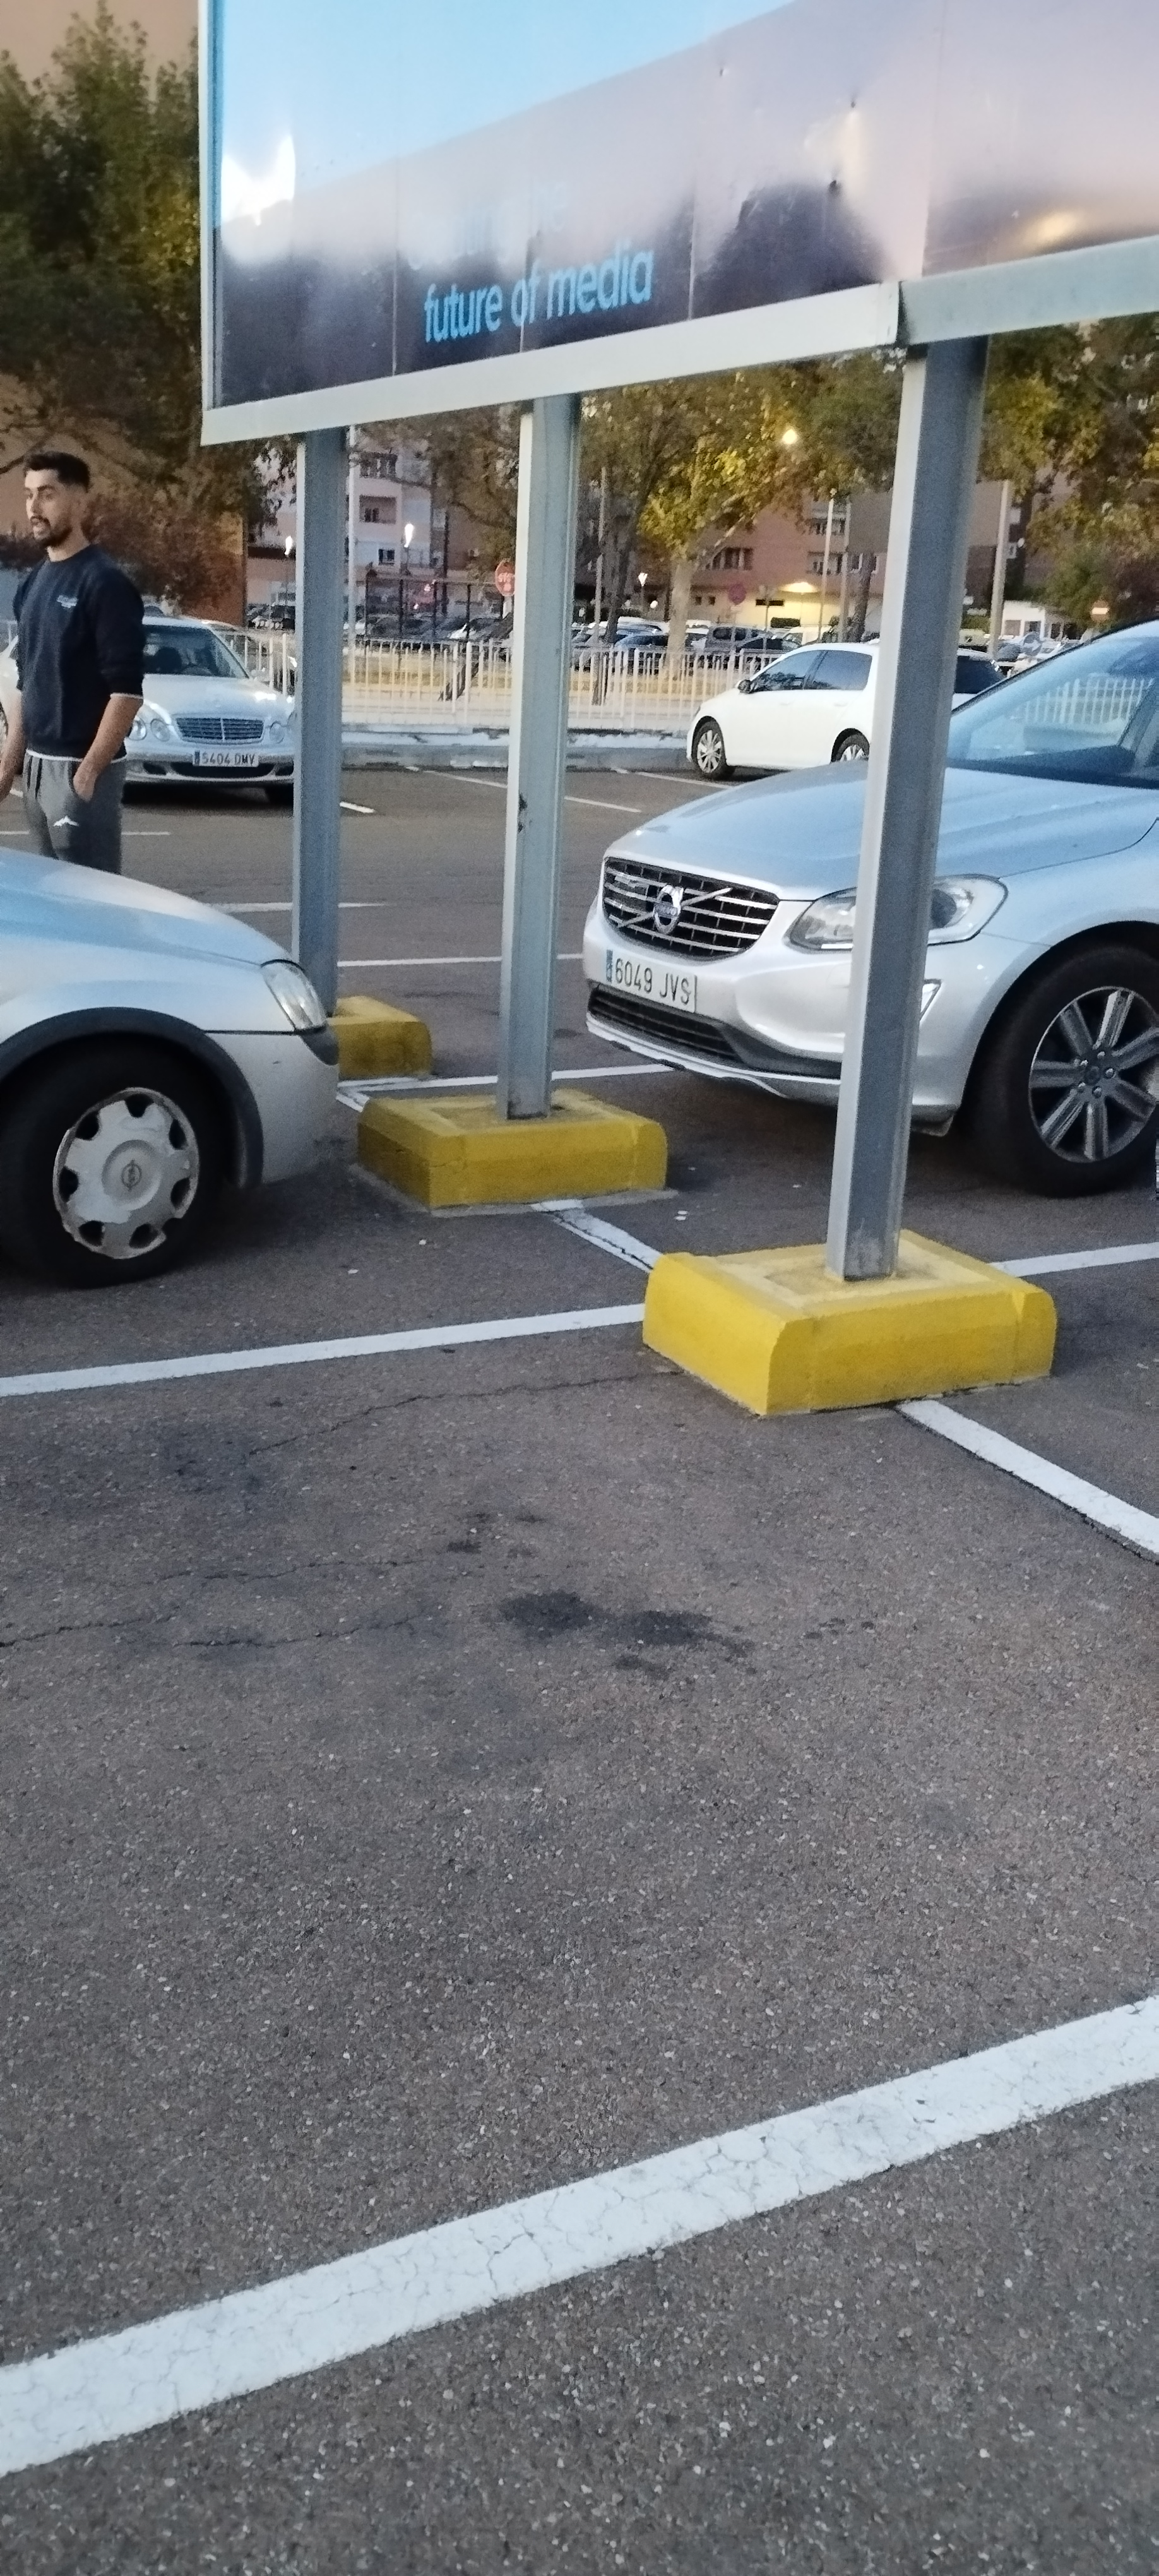Car: (579, 590, 1158, 1177)
Plate: (606, 945, 706, 984)
